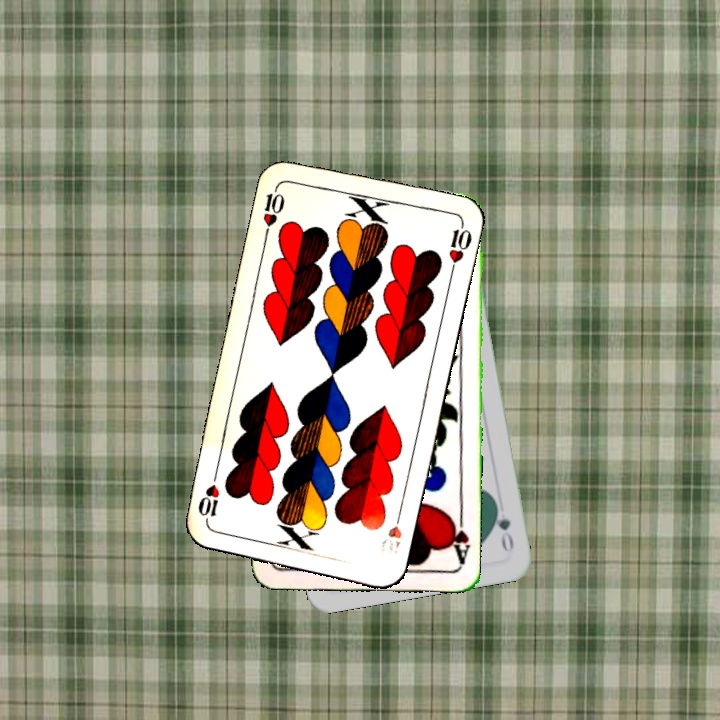GO: (490, 498, 517, 555)
H10: (259, 181, 288, 239), (377, 505, 405, 556)
HA: (445, 507, 472, 566)
